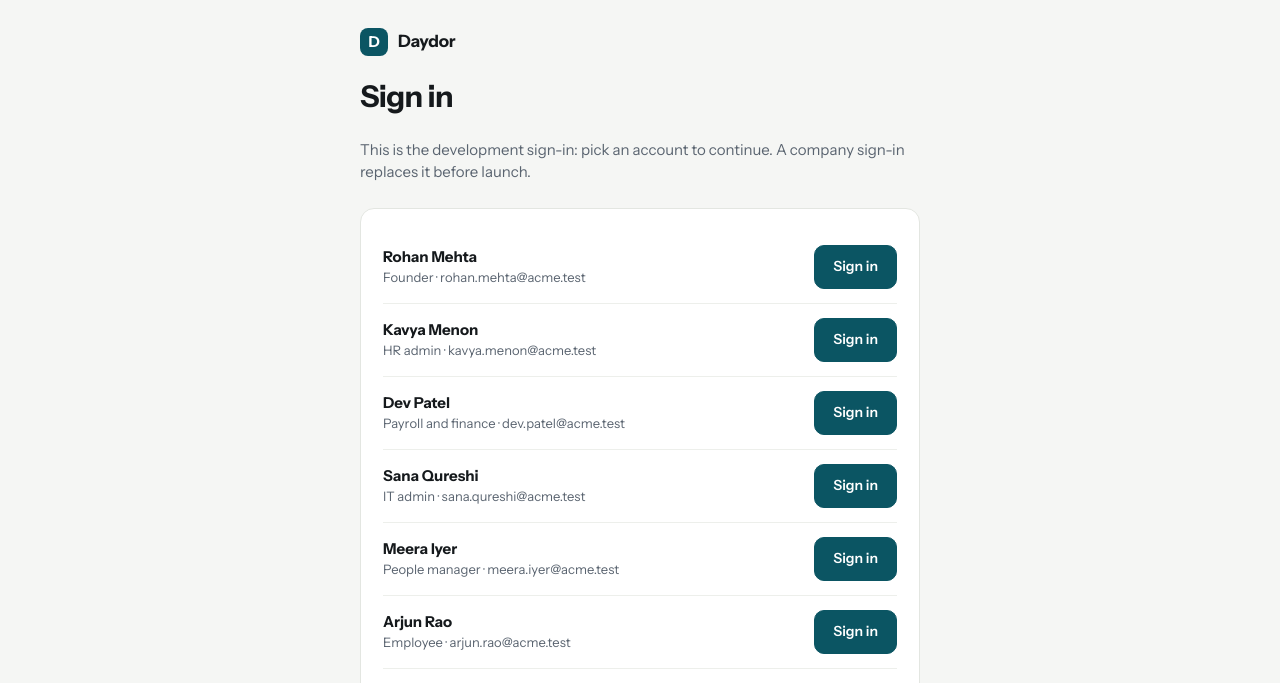
approvals inbox › links every card to its details
The width and height of the screenshot is (1280, 683).
Click the button "Sign in" in the row of "Rohan Mehta": (856, 266) [814,244,897,288]
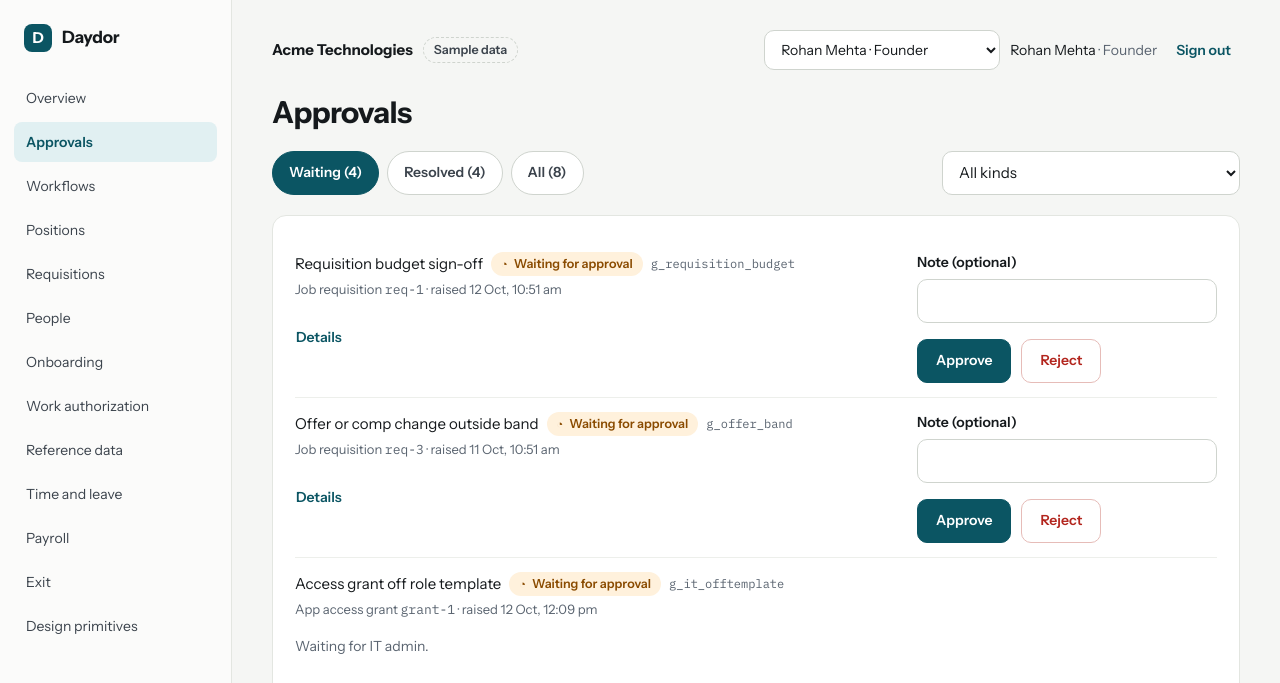
Click the link "Details" below "req-1": (319, 337) [296,328,342,346]
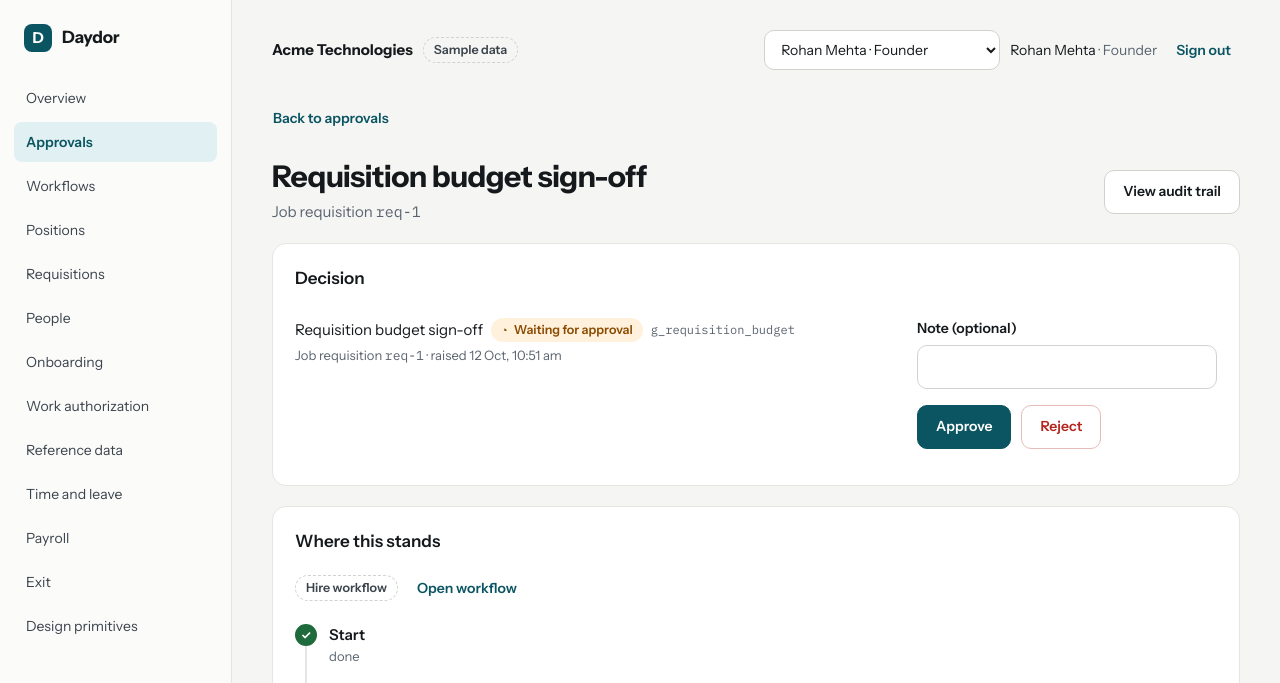
Result: the heading "Requisition budget sign-off" is shown at [272,160,647,194]
